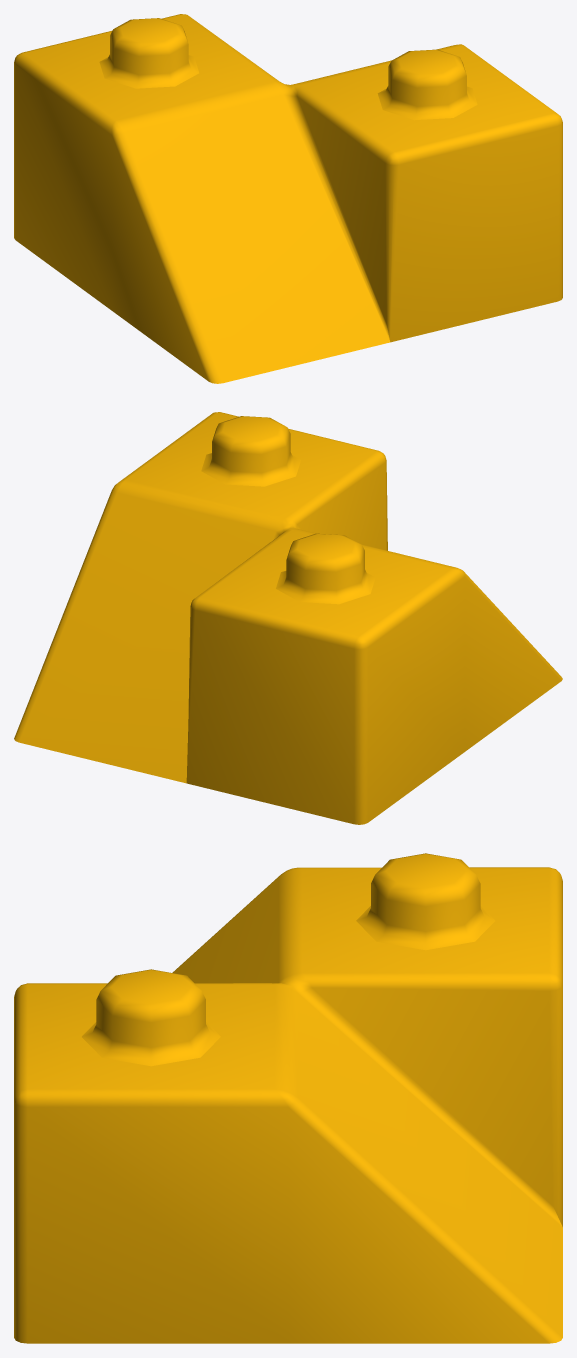
The model's file is Opposite_Bevel_Half.fbx.
3 renders of one model, top to bottom at view 1: azimuth 30°, elevation 25°; view 2: azimuth 150°, elevation 25°; view 3: azimuth 270°, elevation 25°, orthographic. The views are drawn at different scales.
Parts seen in each view (by area): view 1: Opposite_Bevel_Half, Knobs.034; view 2: Opposite_Bevel_Half, Knobs.034; view 3: Opposite_Bevel_Half, Knobs.034.
Part boxes in pixels (x1,y1,x2,y2): Opposite_Bevel_Half: (14,14,562,383); Knobs.034: (99,18,477,120); Opposite_Bevel_Half: (14,412,562,824); Knobs.034: (201,416,375,604); Opposite_Bevel_Half: (14,867,562,1343); Knobs.034: (82,853,495,1066).
Size of the model in its own units: 1 by 0.6 by 1.
